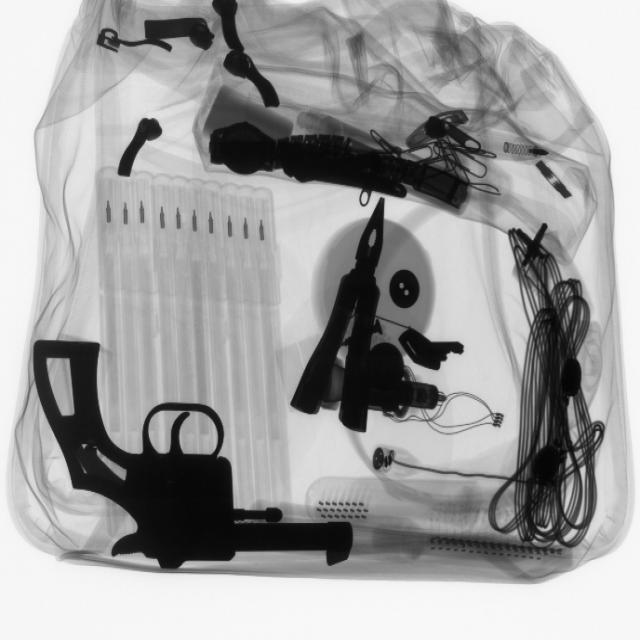BLADE: (532, 158, 575, 203)
GUN: (37, 336, 360, 565)
